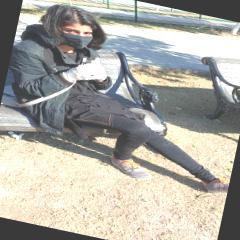gloved: (62, 60, 106, 87), (89, 58, 110, 82)
